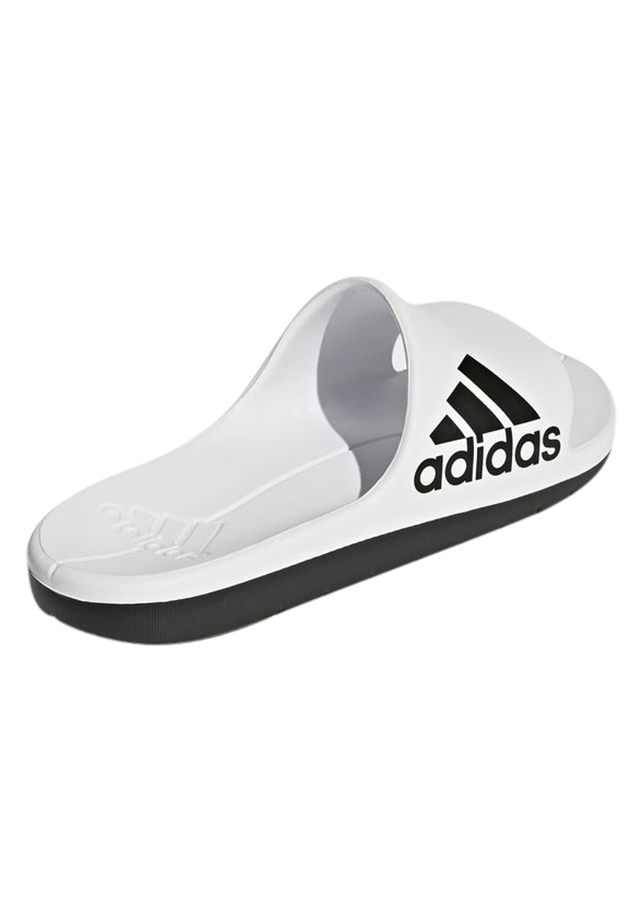Adidas: (405, 347, 569, 505)
